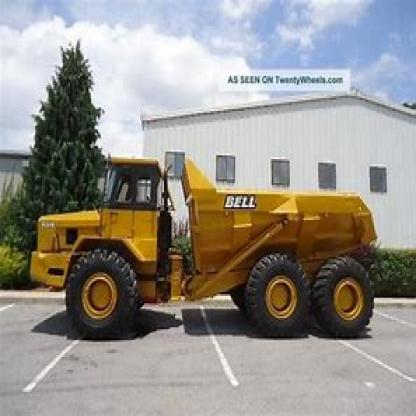dump_truck: (24, 131, 375, 340)
